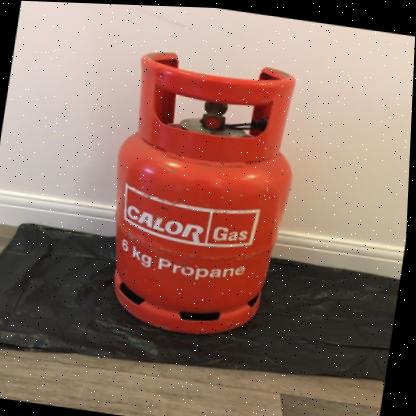gas-tank: (84, 33, 335, 354)
